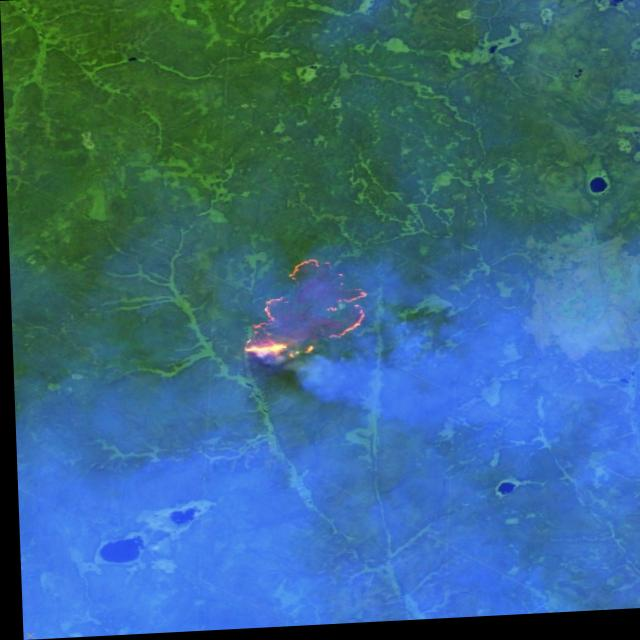fire: (230, 255, 371, 367)
